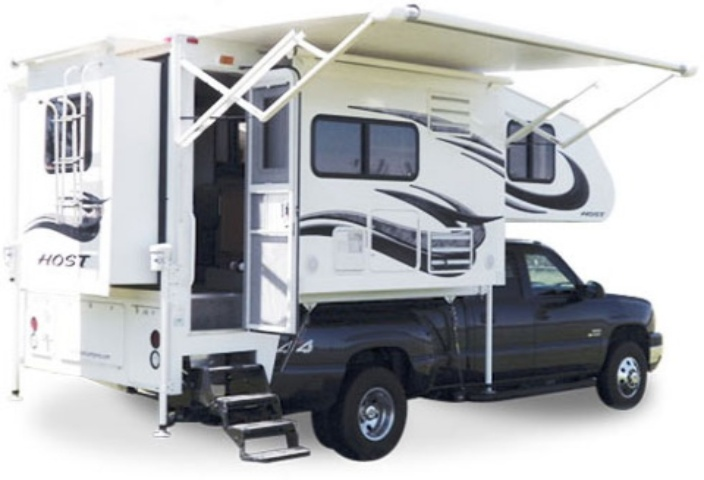truck: (8, 30, 685, 462)
